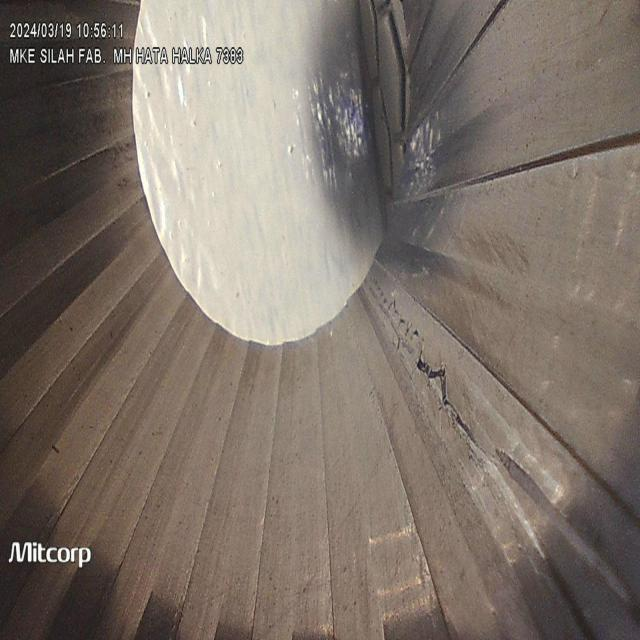hata_9.3: (384, 316, 513, 479)
